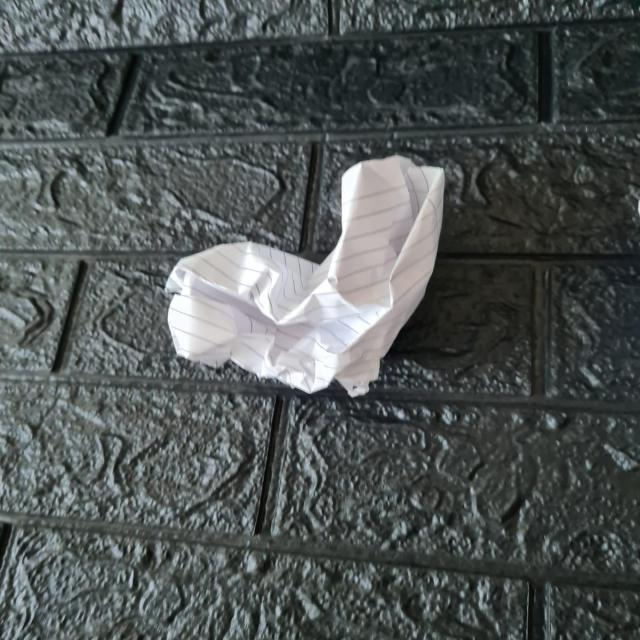trash: (150, 158, 456, 382)
